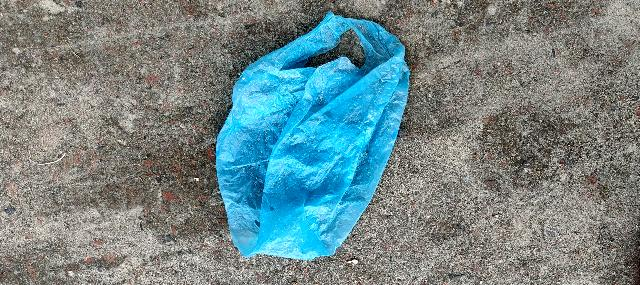polythene: (196, 6, 426, 280)
